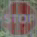Stop: (2, 4, 36, 32)
